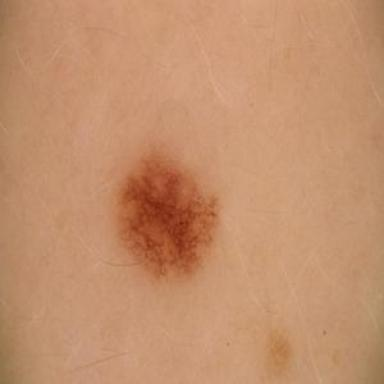Melanoma: (118, 154, 219, 275)
